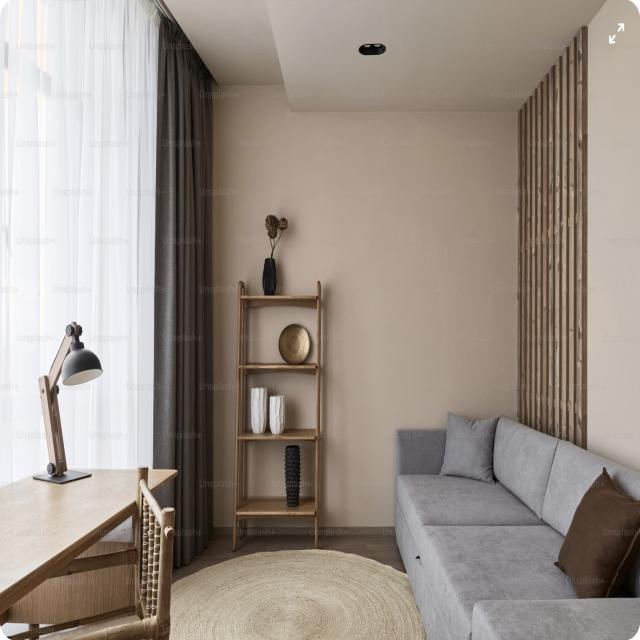lamp: (34, 315, 102, 485)
pillow: (552, 463, 640, 602), (442, 403, 496, 486)
shelf: (232, 274, 330, 556)
sofa: (392, 416, 639, 640)
